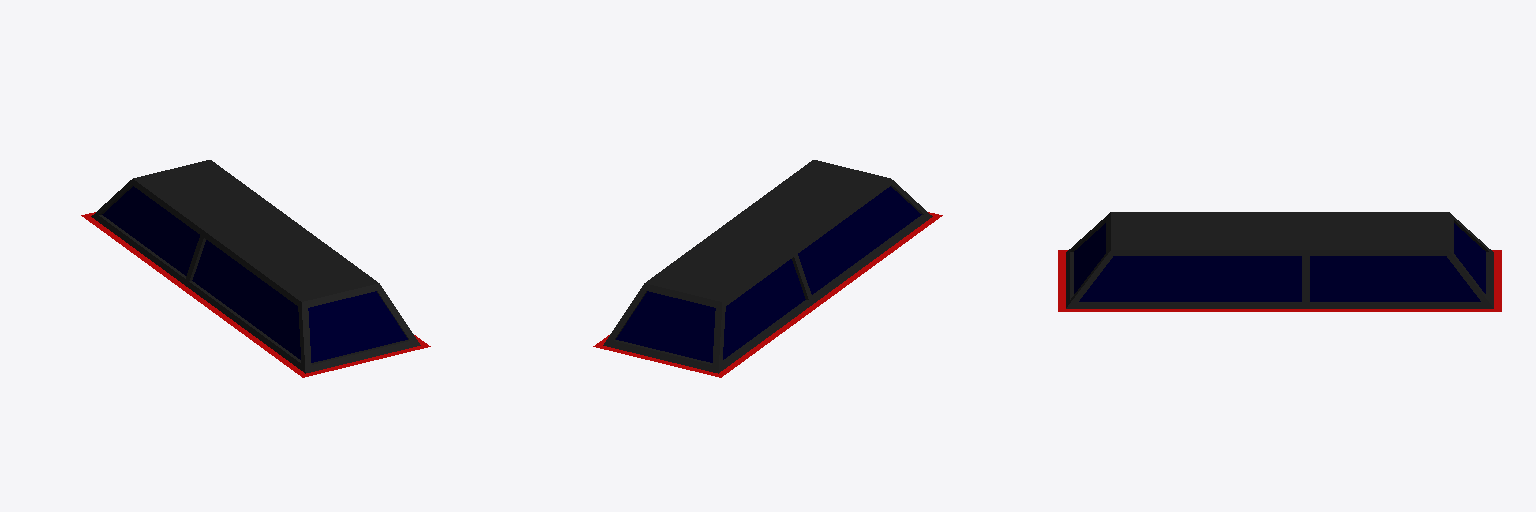
The model's file is Cockpit2.obj.
3 renders of one model, left to right at view 1: azimuth 30°, elevation 25°; view 2: azimuth 150°, elevation 25°; view 3: azimuth 270°, elevation 25°, orthographic.
Visible parts, largest first — view 1: Canopy__Outside_Cube.001; view 2: Canopy__Outside_Cube.001; view 3: Canopy__Outside_Cube.001.
Boxes of the visible parts, box(x1,y1,x2,y2) form: Canopy__Outside_Cube.001: box(81, 160, 430, 377); Canopy__Outside_Cube.001: box(593, 160, 942, 377); Canopy__Outside_Cube.001: box(1058, 212, 1501, 311).
Size of the model in its own units: 1 by 0.375 by 3.